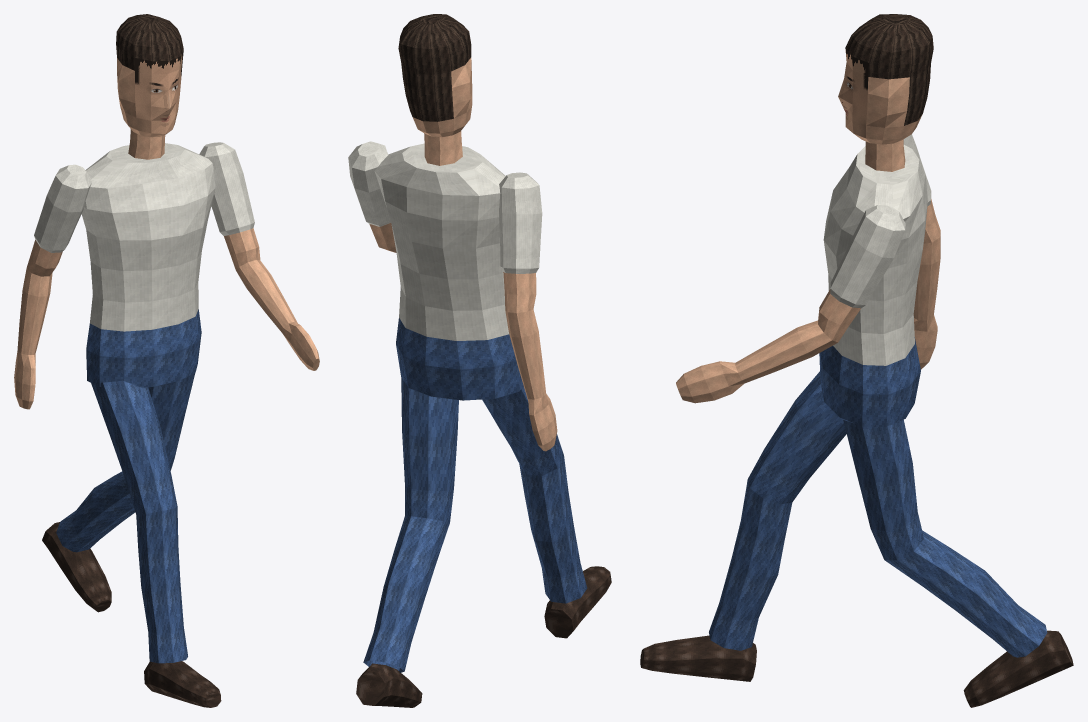
Rendered from walk_16.obj.
The picture shows the model from 3 angles, left to right: view 1: azimuth 30°, elevation 25°; view 2: azimuth 150°, elevation 25°; view 3: azimuth 270°, elevation 25°; orthographic projection. The views are drawn at different scales.
Size of the model in its own units: 0.6208 by 1.79 by 1.01.
25 materials, 25 textured.
